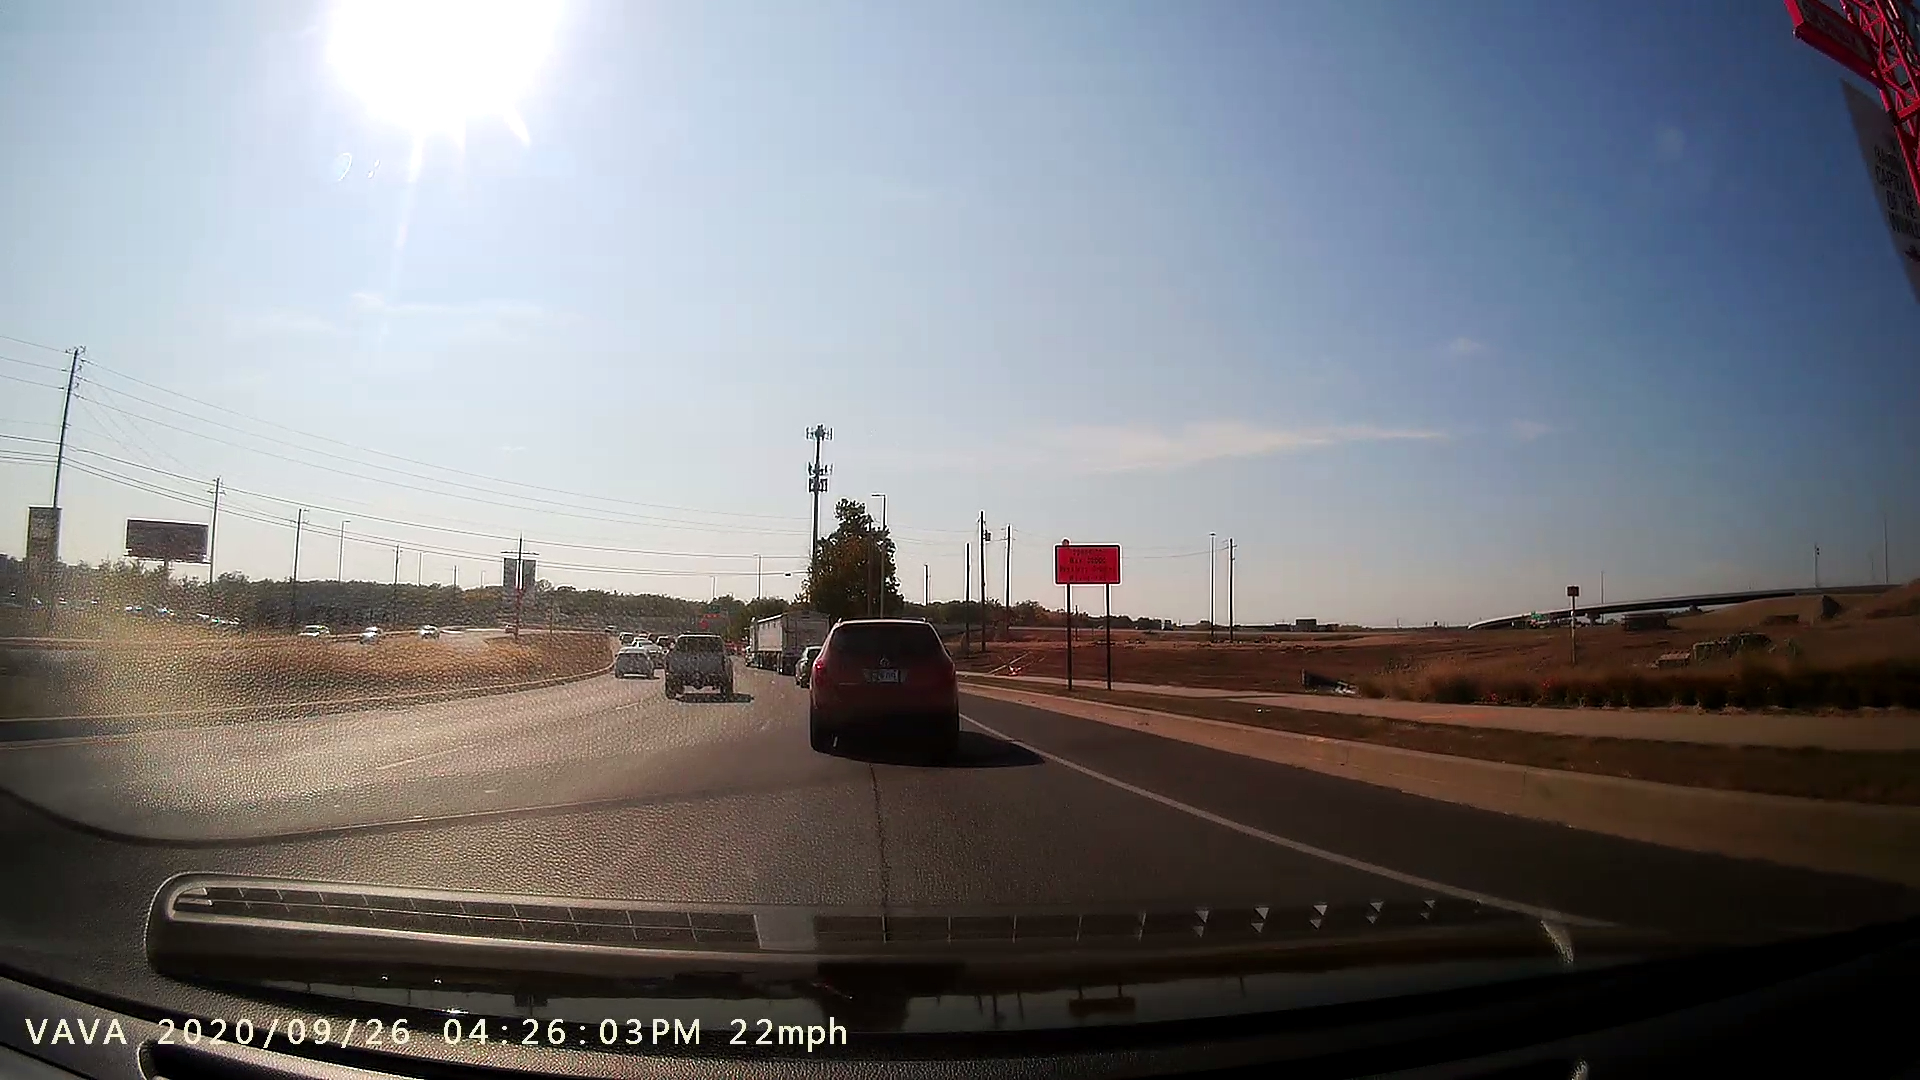temperary_sign: (1051, 531, 1137, 700)
